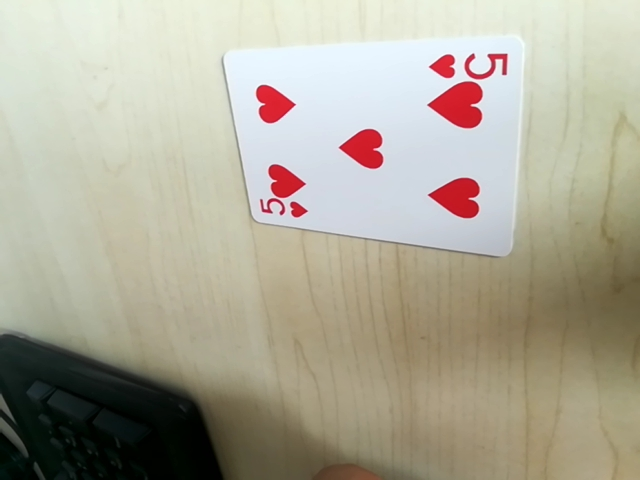hx 5: (428, 43, 508, 82), (253, 196, 310, 224)
